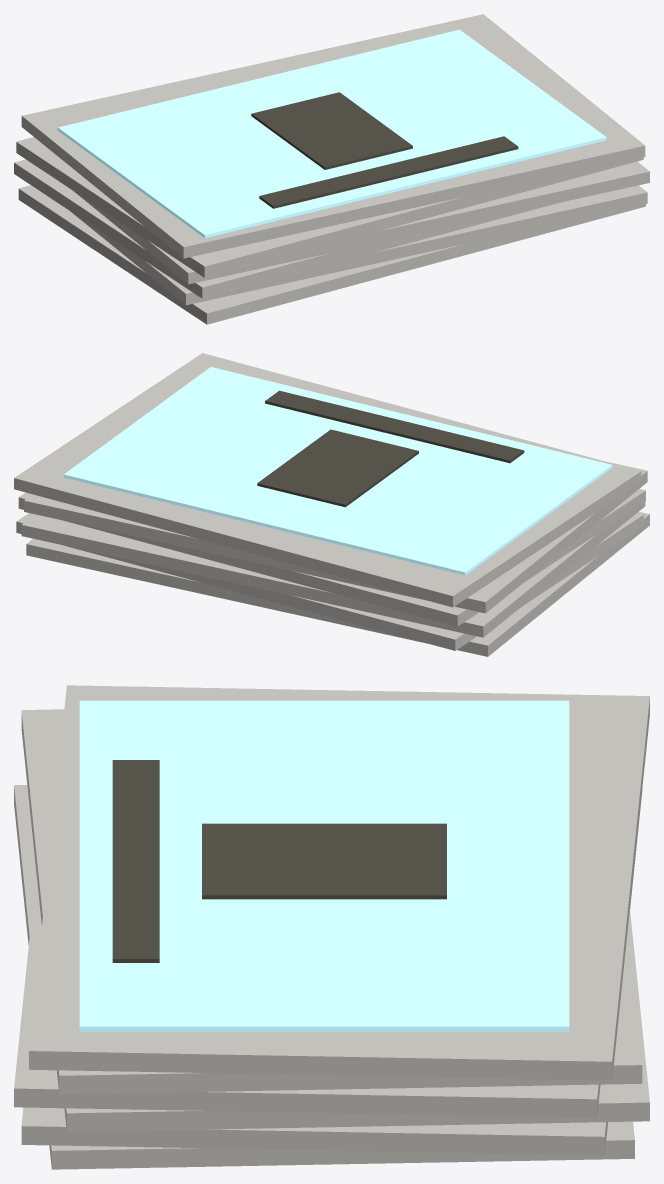
The model's file is prop-cards-citywatch.glb.
3 renders of one model, top to bottom at view 1: azimuth 30°, elevation 25°; view 2: azimuth 150°, elevation 25°; view 3: azimuth 270°, elevation 25°, orthographic. The views are drawn at different scales.
Visible parts, largest first — view 1: card_face, card_5, card_4, card_0, card_3, card_1, card_emblem, card_2, card_emblem_bar; view 2: card_face, card_5, card_2, card_4, card_0, card_emblem, card_1, card_3, card_emblem_bar; view 3: card_face, card_5, card_emblem, card_3, card_4, card_1, card_0, card_2, card_emblem_bar.
Part boxes in pixels (x1,y1,x2,y2): card_face: (57, 29, 606, 238); card_5: (21, 14, 645, 258); card_4: (16, 137, 643, 277); card_0: (18, 185, 645, 324); card_3: (73, 161, 649, 284); card_1: (70, 185, 647, 305); card_emblem: (251, 92, 412, 169); card_2: (14, 159, 556, 298); card_emblem_bar: (259, 136, 518, 208); card_face: (63, 367, 612, 575); card_5: (14, 353, 641, 607); card_2: (21, 502, 645, 637); card_4: (24, 462, 647, 613); card_0: (26, 512, 649, 656); card_emblem: (257, 429, 418, 507); card_1: (16, 513, 643, 650); card_3: (18, 488, 645, 626); card_emblem_bar: (265, 390, 524, 463); card_face: (79, 700, 569, 1031); card_5: (29, 685, 649, 1080); card_emblem: (202, 823, 446, 899); card_3: (14, 874, 600, 1117); card_4: (21, 709, 642, 1094); card_1: (21, 791, 642, 1155); card_0: (14, 785, 634, 1169); card_2: (64, 910, 649, 1131); card_emblem_bar: (112, 760, 159, 962).
Bounding box in the file's own units: 0.9582 × 0.143 × 0.6755.
